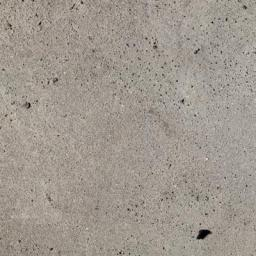FOD: (196, 227, 216, 245)
